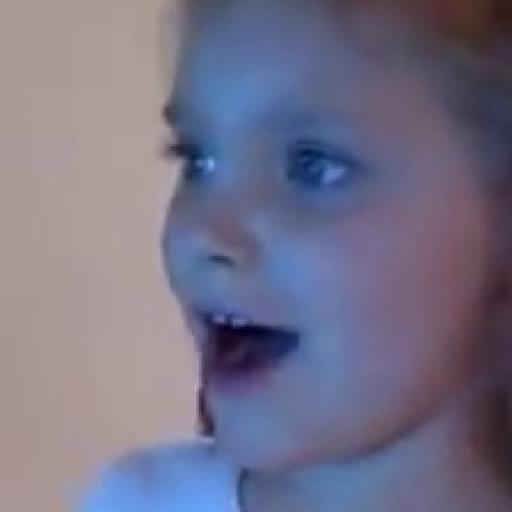Autism: (110, 30, 512, 496)
